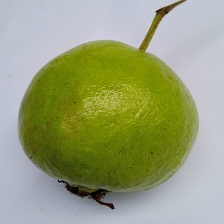guava: (28, 17, 213, 169)
